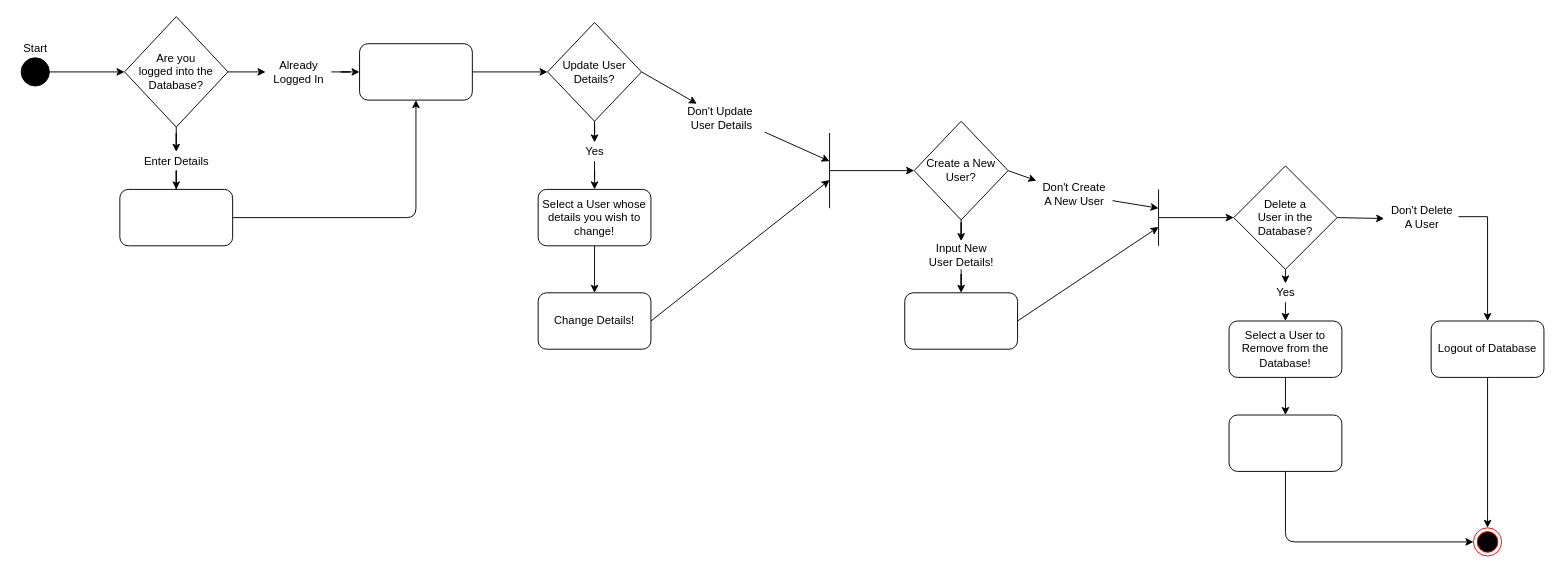
The diagram is 1560 pixels wide and 572 high, and some of its shapes have lost their labels. The shapes that lost their labels are listed below. From the top down, each one's box as (x1, y1, x2, y2) in pixels, then its label:
(359, 43, 472, 100): Logged in to Database System!
(119, 188, 233, 246): Log In to Database System!
(904, 292, 1018, 349): Add new User to the Facebook Database!
(1228, 414, 1342, 471): Delete User!
